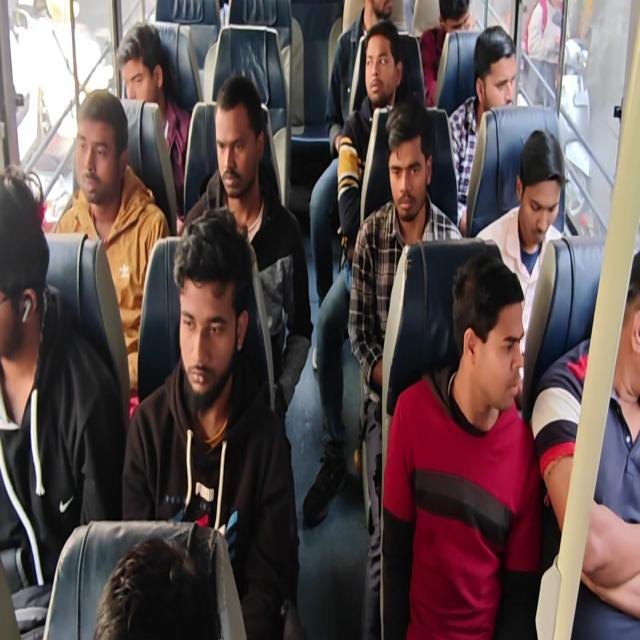person: (1, 1, 638, 638), (121, 207, 304, 638), (346, 95, 464, 638), (381, 249, 542, 638), (0, 166, 127, 638), (302, 19, 412, 527), (178, 74, 314, 430), (530, 248, 639, 638), (51, 89, 170, 418), (309, 1, 395, 308), (474, 128, 566, 410), (336, 20, 411, 262), (115, 21, 192, 224), (448, 24, 518, 234), (93, 535, 222, 639), (418, 0, 478, 108), (525, 0, 568, 106)
